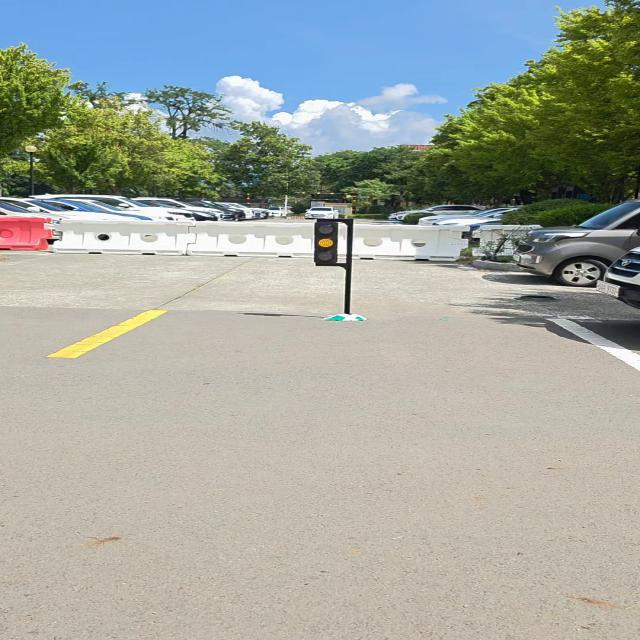yellow: (314, 220, 338, 266)
